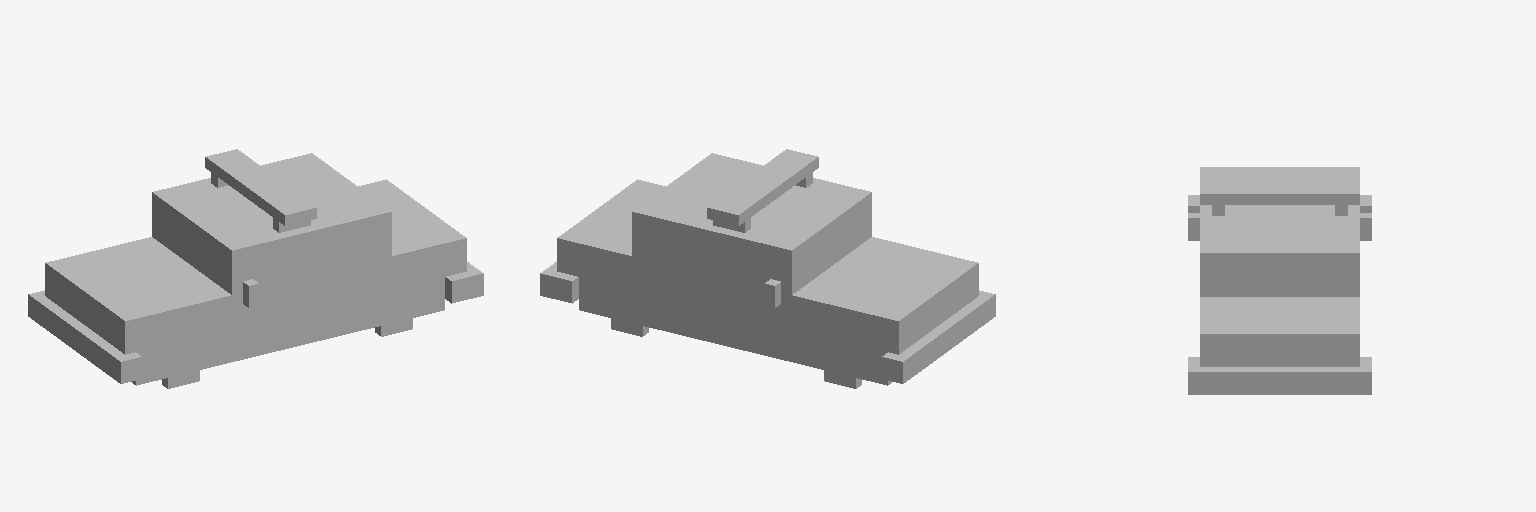
File: policeCar.obj
3 views of the same model, side by side, from view 1: azimuth 30°, elevation 25°; view 2: azimuth 150°, elevation 25°; view 3: azimuth 270°, elevation 25° (orthographic).
Visible parts, largest first — view 1: object 1; view 2: object 1; view 3: object 1.
Boxes of the visible parts, x1,y1,x2,y2 form: object 1: [28, 149, 483, 388]; object 1: [540, 149, 995, 388]; object 1: [1188, 167, 1371, 394].
Bounding box in the file's own units: 3.4 × 1.3 × 1.5.